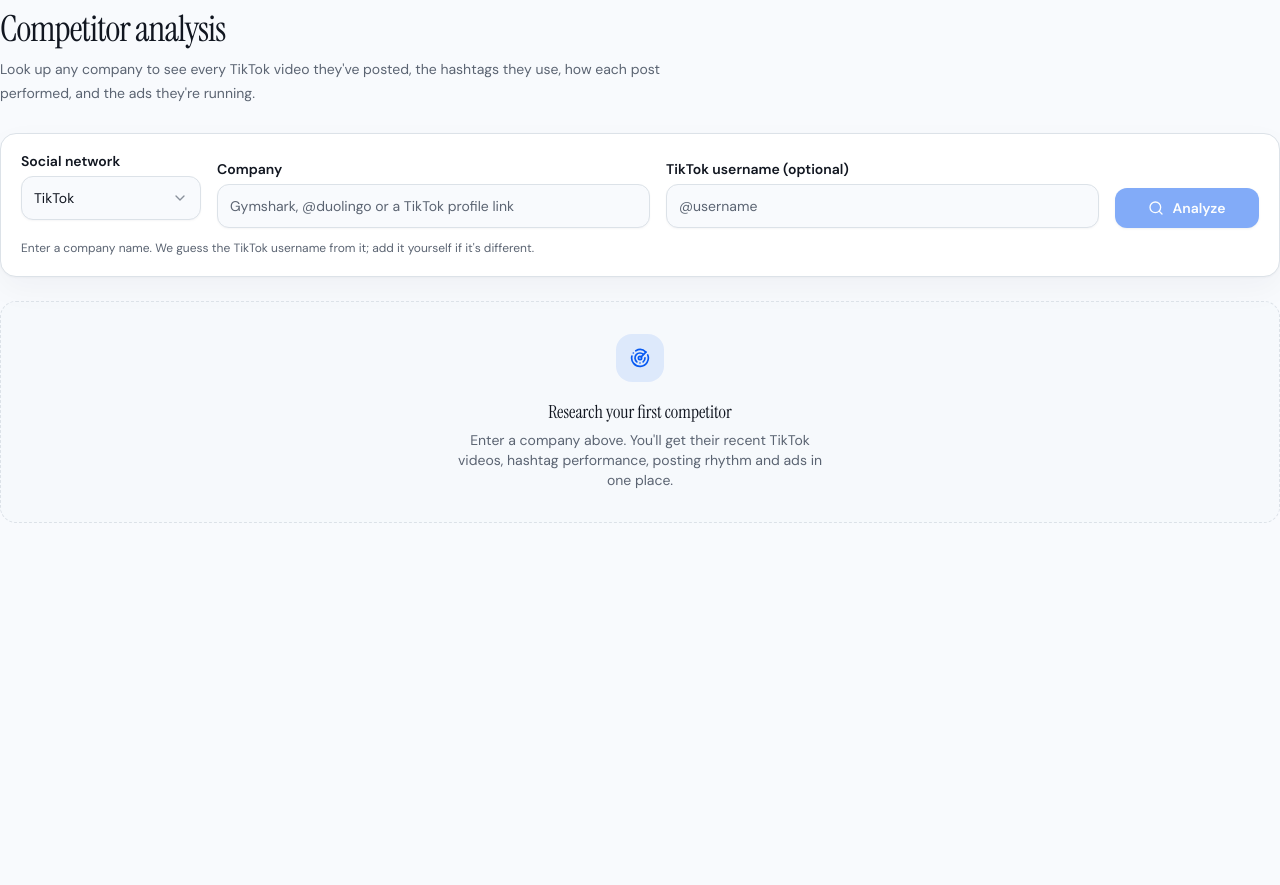
Scenario: CompetitorAnalysisView › researches a company and shows its videos, stats and hashtag filter
Step 1. Type "Gymshark" into the field labelled "Company" → (434, 206), box [217,184,650,228]
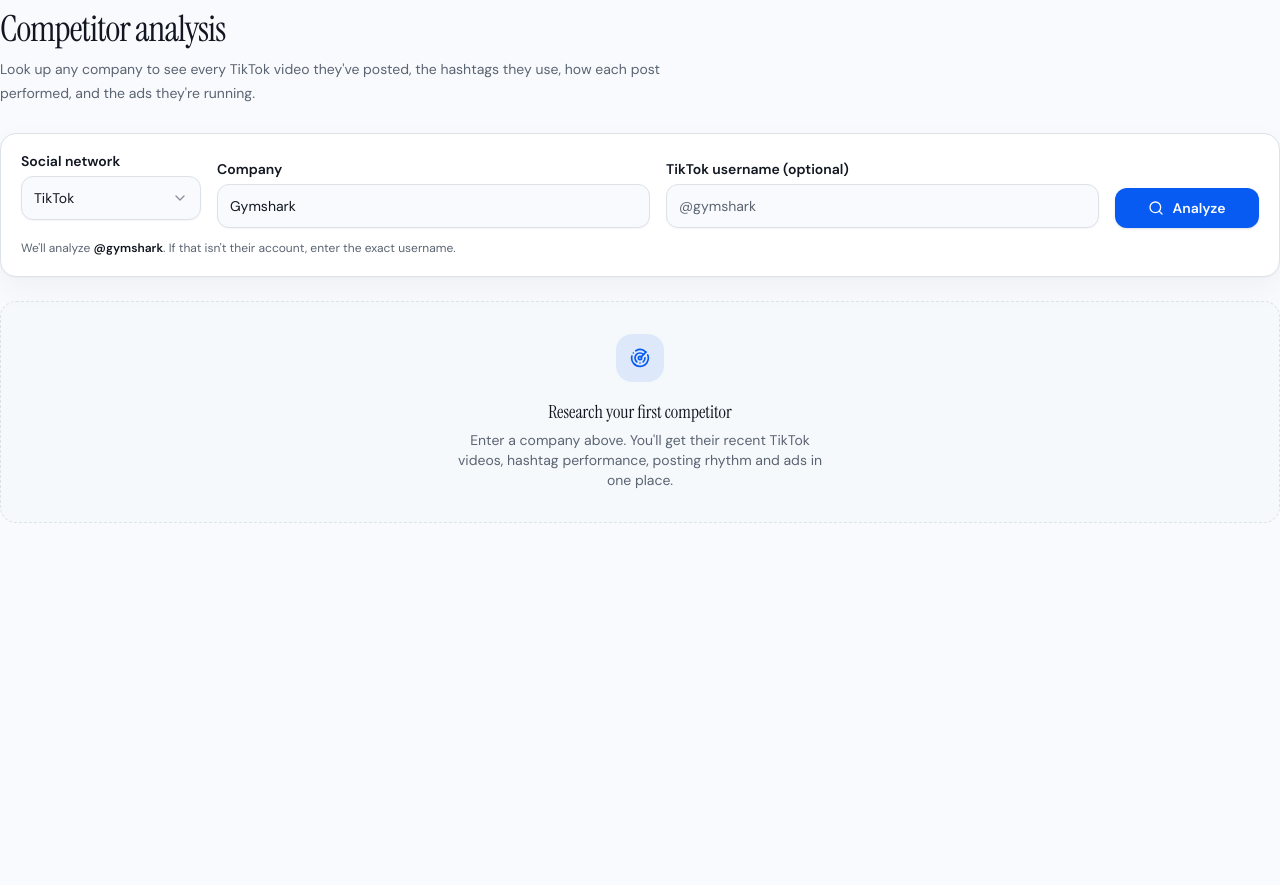
expect the button "Analyze" is enabled: met
Step 2. Click the button "Analyze" → (1187, 208), box [1115,188,1259,228]
(page scrolled)
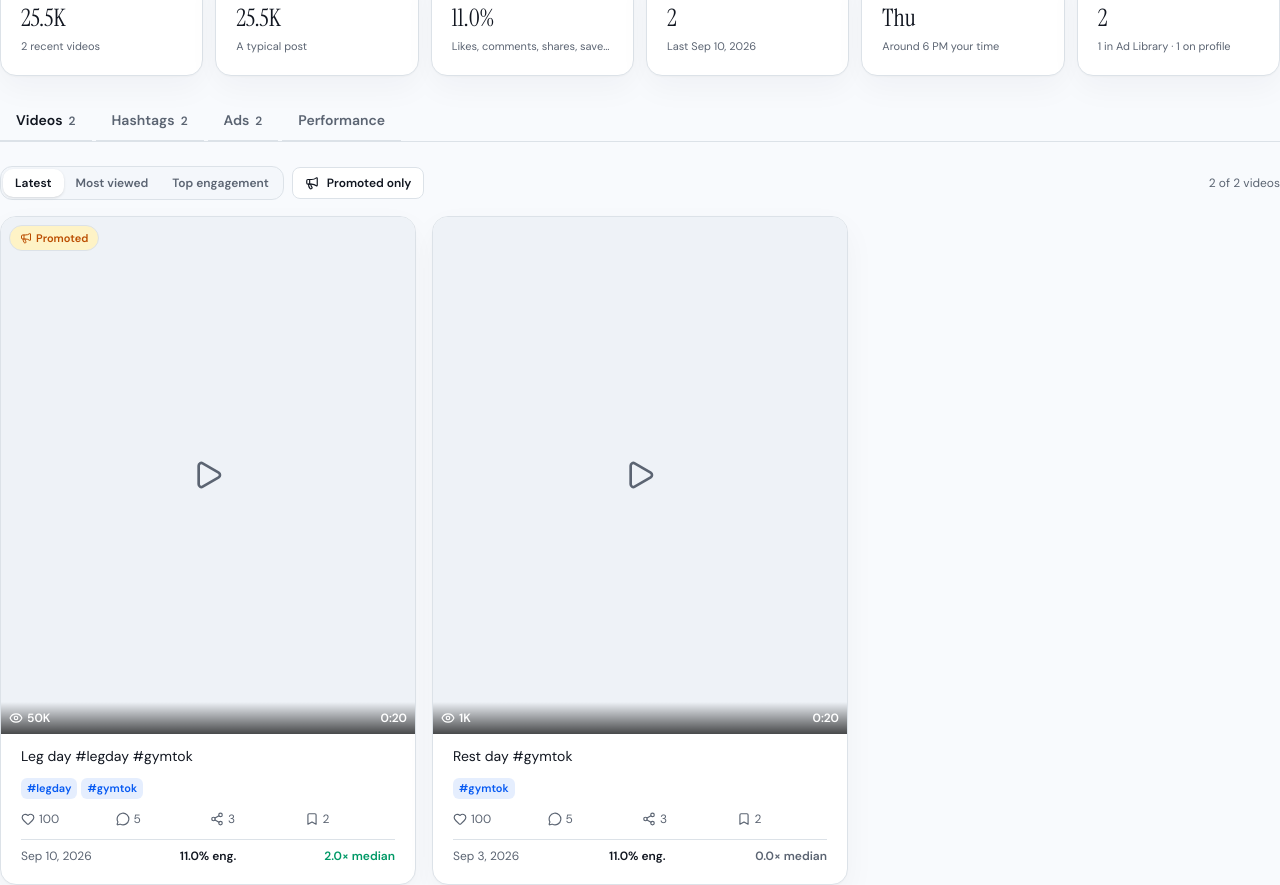
expect the text "Leg day #legday #gymtok" is shown: met, box [21,747,193,765]
expect the text "Rest day #gymtok" is shown: met, box [453,747,572,765]
expect the text "2.0× median" is shown: met, box [324,848,395,864]
Step 3. Click the button "#legday" → (49, 788), box [21,778,77,798]
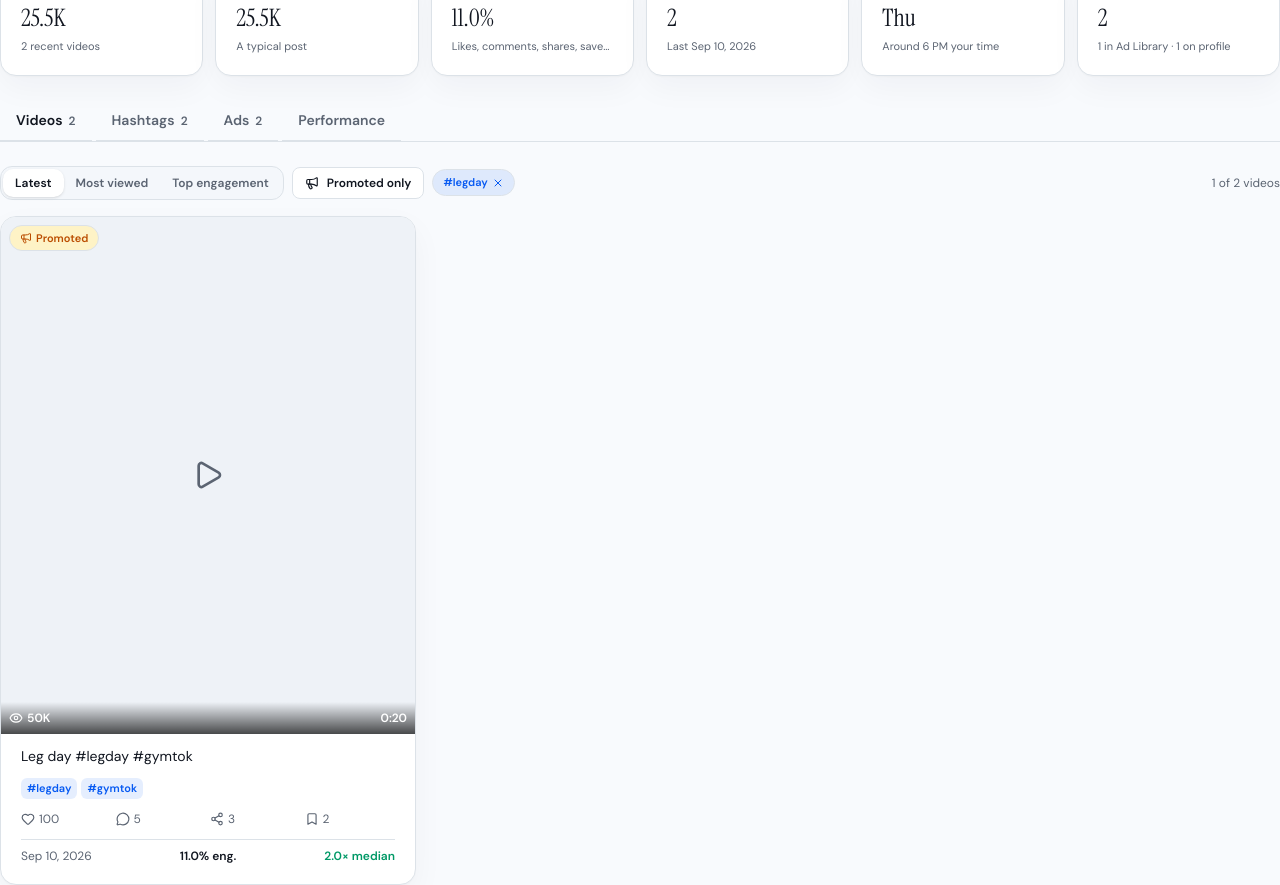
expect the text "Rest day #gymtok" is gone: met
expect the text "1 of 2 videos" is shown: met, box [1212,174,1279,190]
Step 4. Click the button named "Clear hashtag filter" → (498, 182), box [492,176,504,188]
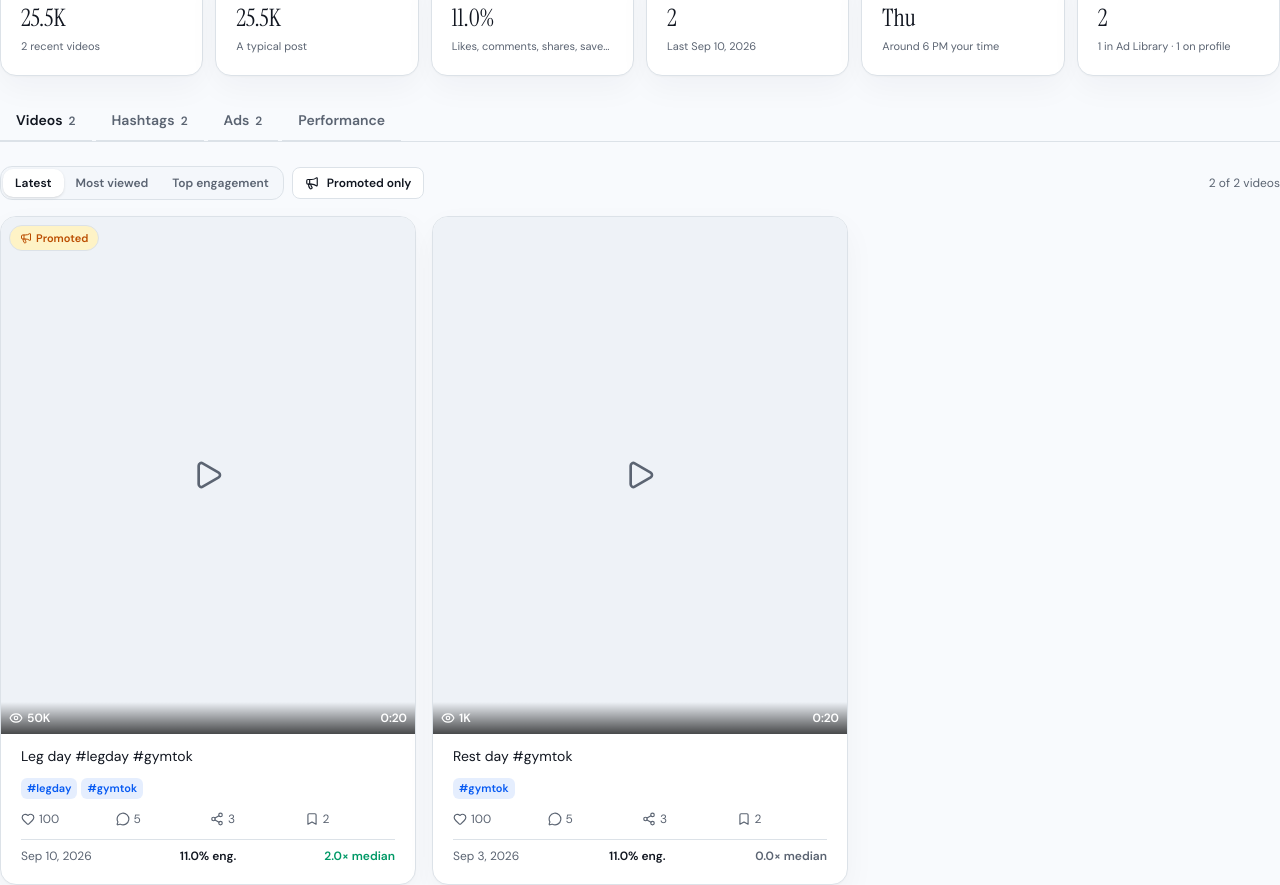
expect the text "2 of 2 videos" is shown: met, box [1209,174,1279,190]
